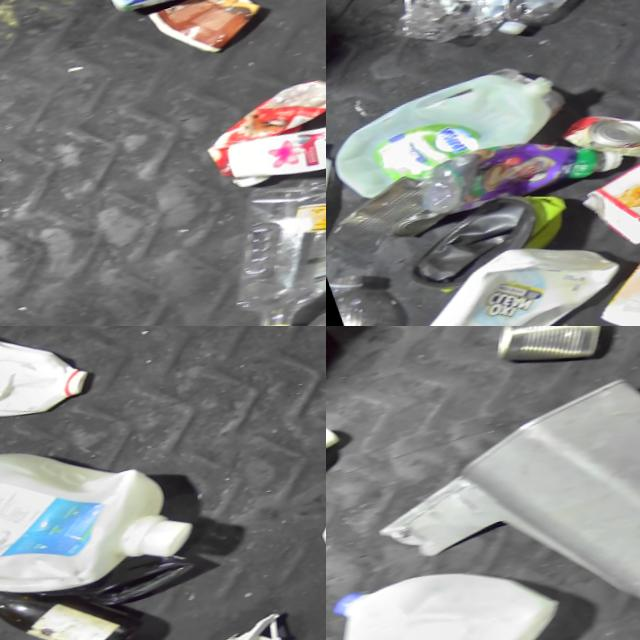can: (480, 326, 610, 379), (549, 98, 640, 169)
milk_jug: (0, 411, 189, 617), (326, 75, 544, 191), (370, 232, 634, 326), (326, 546, 551, 640), (0, 326, 90, 441), (326, 125, 348, 242)
non_white_jug: (382, 183, 562, 293), (566, 207, 640, 326)
plastic_bottle: (469, 0, 640, 40), (326, 271, 400, 326)
